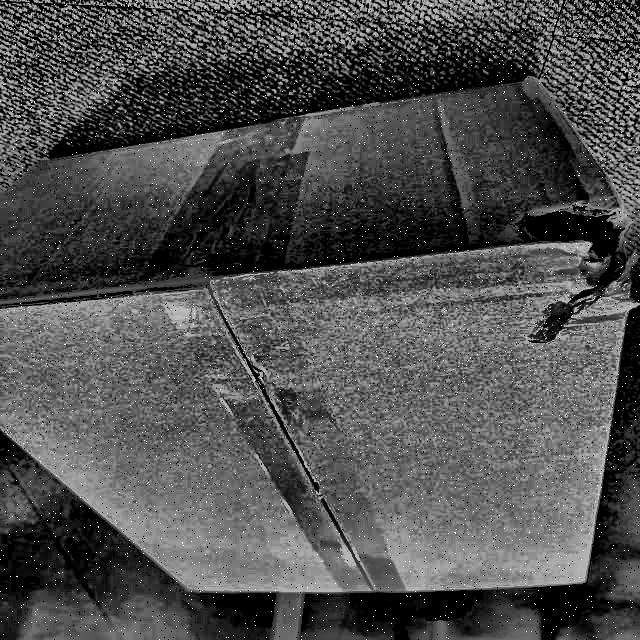box: (0, 78, 627, 602)
hole: (505, 187, 619, 341)
